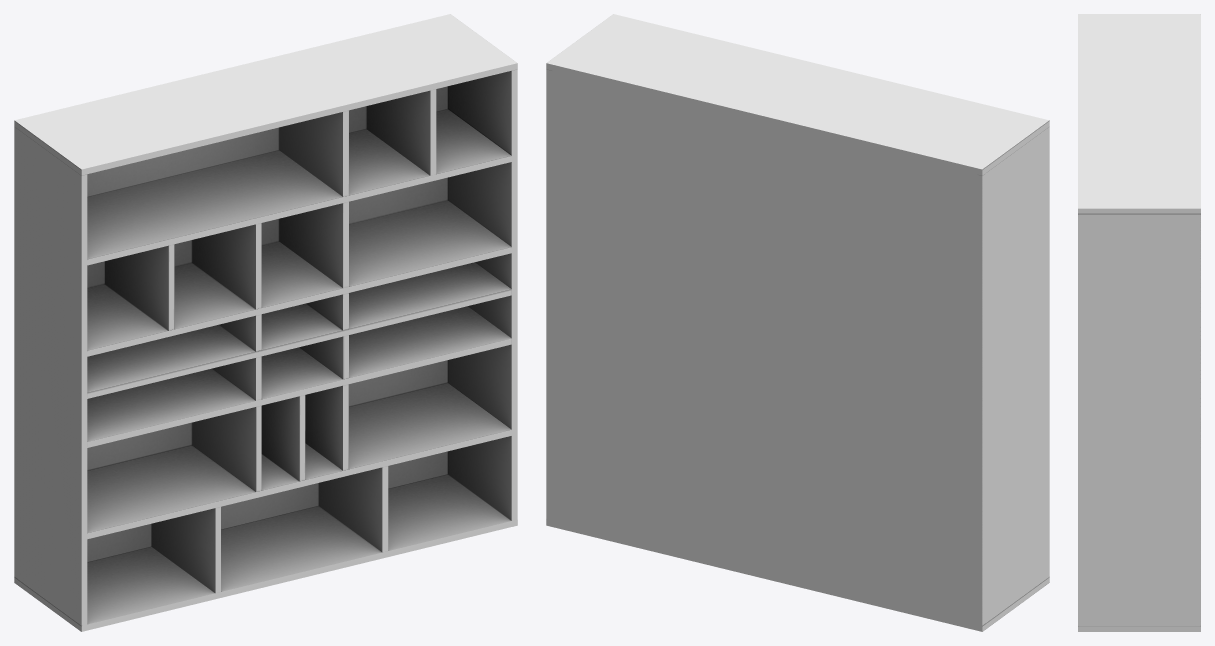
The model's file is shelf_four_plain.glb.
3 renders of one model, left to right at view 1: azimuth 30°, elevation 25°; view 2: azimuth 150°, elevation 25°; view 3: azimuth 270°, elevation 25°, orthographic. The views are drawn at different scales.
Visible parts, largest first — view 1: shelf_four_plain; view 2: shelf_four_plain; view 3: shelf_four_plain.
Boxes of the visible parts, x1,y1,x2,y2 form: shelf_four_plain: (14,14,517,631); shelf_four_plain: (546,14,1049,631); shelf_four_plain: (1078,14,1200,631).
Size of the model in its own units: 2.48 by 2.51 by 0.6606.
Materials: 1 (1 with a texture image).
